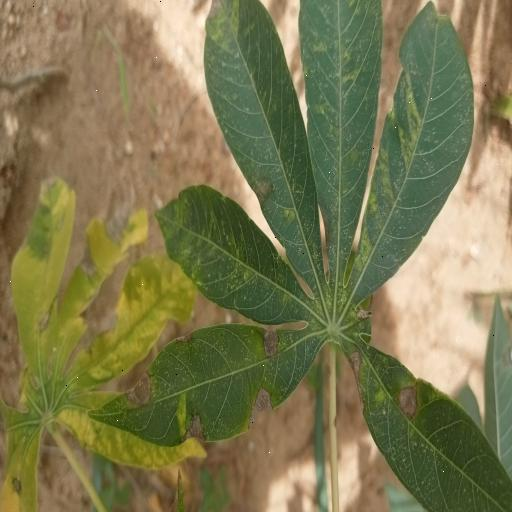Cassava_Brown_Leaf_Spot: (94, 1, 511, 512), (0, 180, 199, 512)
